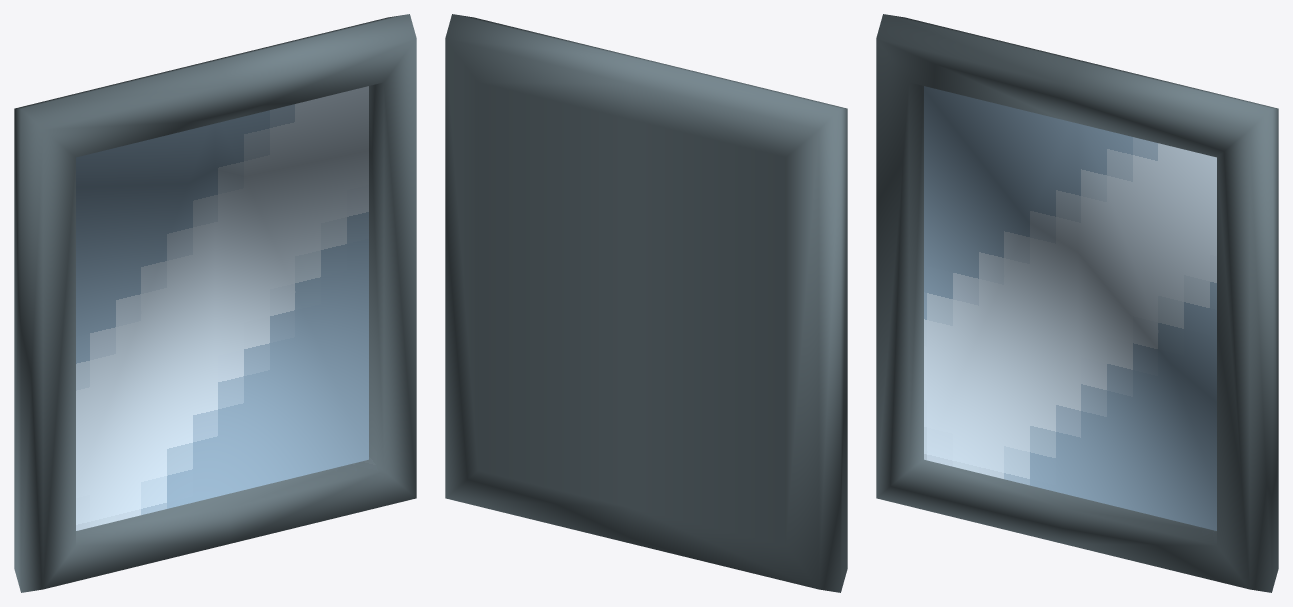
File: Mirror_bathroom_v1.fbx
3 renders of one model, left to right at view 1: azimuth 30°, elevation 25°; view 2: azimuth 150°, elevation 25°; view 3: azimuth 330°, elevation 25°, orthographic.
Visible parts, largest first — view 1: Cube; view 2: Cube; view 3: Cube.
Boxes of the visible parts, x1=… form: Cube: x1=14, y1=14, x2=416, y2=592; Cube: x1=445, y1=14, x2=847, y2=592; Cube: x1=876, y1=14, x2=1278, y2=592.
Bounding box in the file's own units: 47.08 × 56.02 × 6.06.
